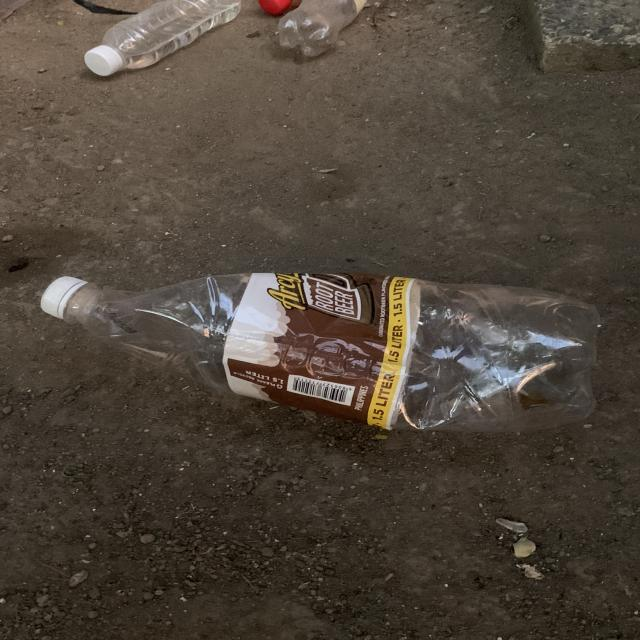Bottle: (41, 273, 599, 432)
